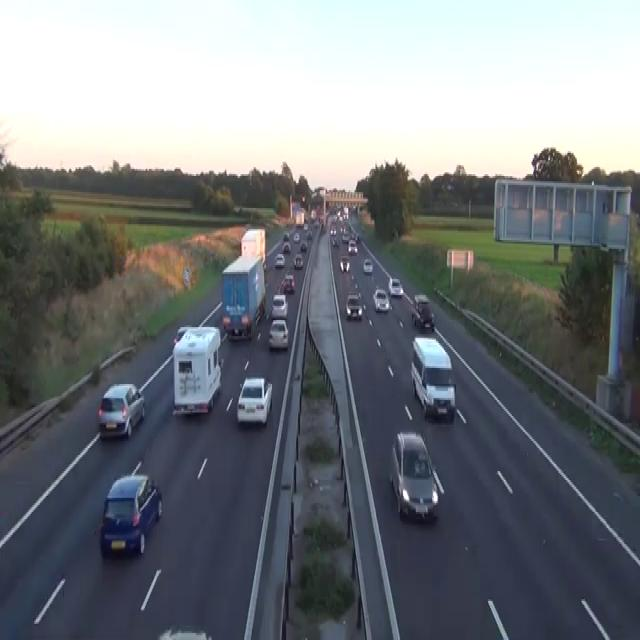Car: (100, 464, 162, 556), (389, 430, 439, 523), (97, 382, 145, 439), (236, 375, 272, 425), (411, 293, 435, 331), (156, 626, 213, 638), (268, 318, 288, 348), (172, 326, 193, 350), (345, 292, 362, 320), (372, 288, 390, 311), (271, 294, 288, 318), (413, 293, 430, 311), (388, 277, 403, 297), (280, 274, 295, 293), (176, 325, 191, 338), (339, 256, 350, 272), (347, 238, 358, 254), (363, 258, 373, 274), (293, 252, 303, 268), (274, 252, 285, 266), (277, 278, 285, 294), (282, 242, 291, 252), (342, 231, 350, 242), (300, 240, 307, 251), (331, 238, 339, 247), (233, 204, 241, 213), (293, 231, 299, 242), (354, 233, 361, 242), (330, 226, 336, 236), (313, 218, 319, 228), (446, 183, 454, 190), (283, 231, 289, 240), (306, 230, 312, 238), (303, 222, 308, 230), (263, 260, 267, 270), (450, 201, 457, 206), (441, 183, 445, 190)
Truck: (172, 324, 222, 414), (221, 252, 266, 340), (410, 336, 456, 421), (240, 228, 266, 270), (295, 208, 304, 226)
